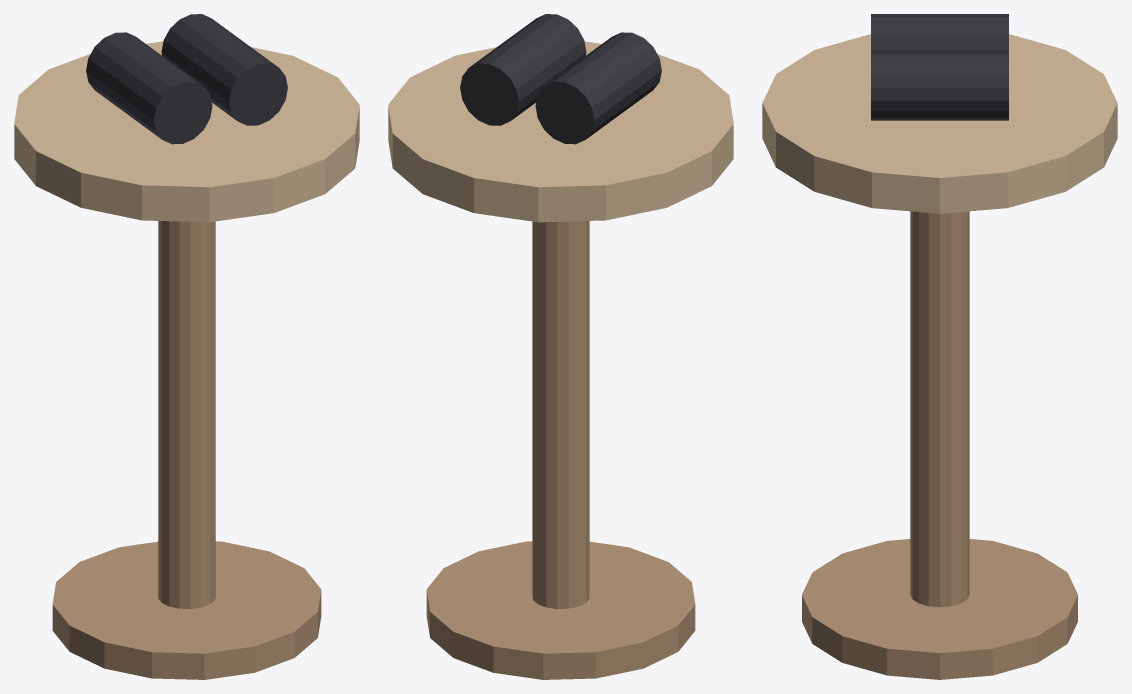
File: binocular_stand.glb
3 renders of one model, left to right at view 1: azimuth 30°, elevation 25°; view 2: azimuth 150°, elevation 25°; view 3: azimuth 270°, elevation 25°, orthographic.
Visible parts, largest first — view 1: binocular_stand; view 2: binocular_stand; view 3: binocular_stand.
Part boxes in pixels (x1,y1,x2,y2): binocular_stand: [14, 14, 359, 679]; binocular_stand: [388, 14, 733, 679]; binocular_stand: [762, 14, 1117, 679].
Size of the model in its own units: 0.36 by 0.655 by 0.36.
